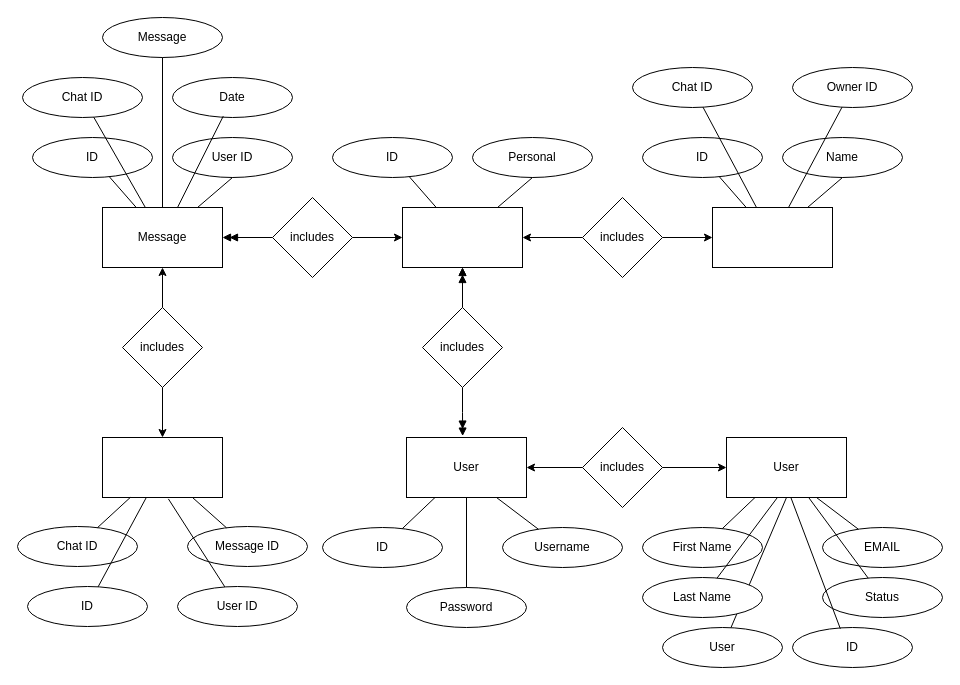
Image size: 960x685. Some labels were removed from this diagram. The centre of each missing label's shape, as x and y in pixels:
Chat: (x=462, y=237)
GroupChatInfo: (x=772, y=237)
Unseen Message: (x=162, y=467)
